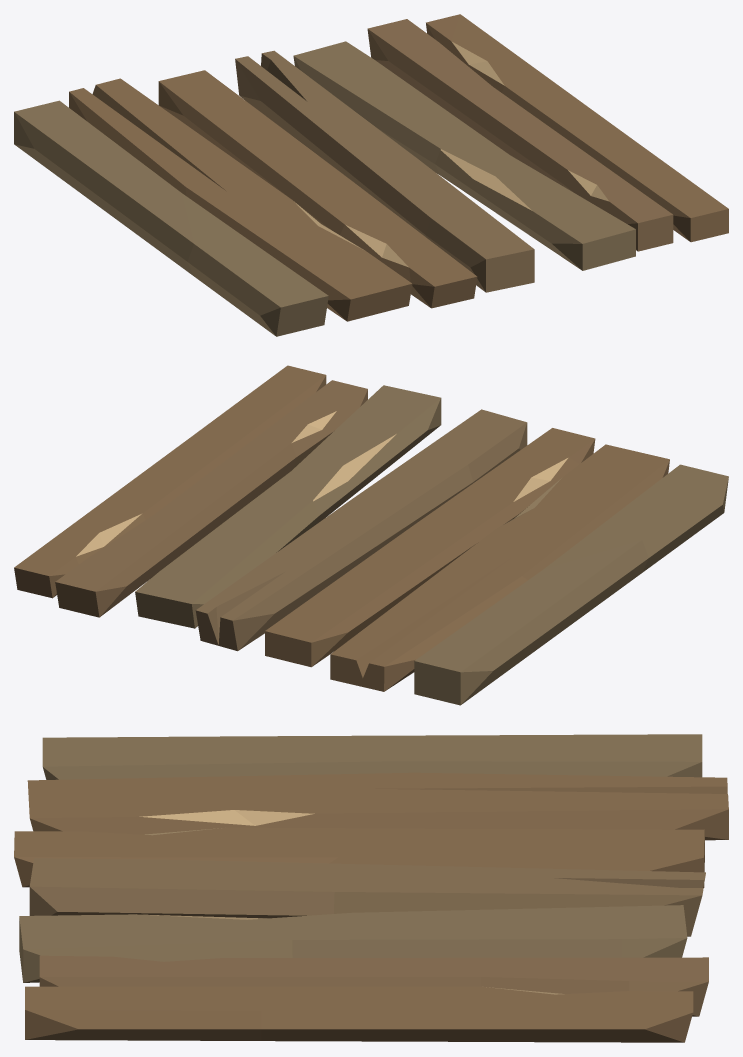
The model's file is rpgpp_ag_wall_platform_03c.fbx.
3 renders of one model, top to bottom at view 1: azimuth 30°, elevation 25°; view 2: azimuth 150°, elevation 25°; view 3: azimuth 270°, elevation 25°, orthographic. The views are drawn at different scales.
Parts seen in each view (by area): view 1: rpgpp_ag_wall_platform_03c; view 2: rpgpp_ag_wall_platform_03c; view 3: rpgpp_ag_wall_platform_03c.
Part boxes in pixels (x1,y1,x2,y2): rpgpp_ag_wall_platform_03c: (14,14,728,336); rpgpp_ag_wall_platform_03c: (14,365,728,705); rpgpp_ag_wall_platform_03c: (14,734,728,1042).
Bounding box in the file's own units: 2.51 × 0.1884 × 2.74.
